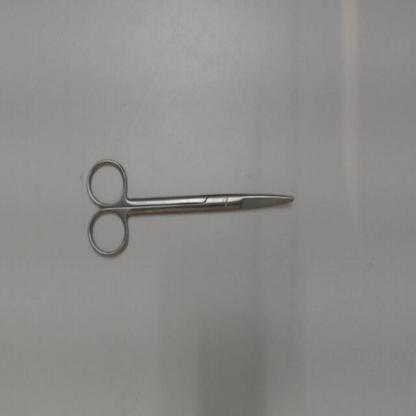Curved Mayo Scissors: (83, 154, 298, 263)
